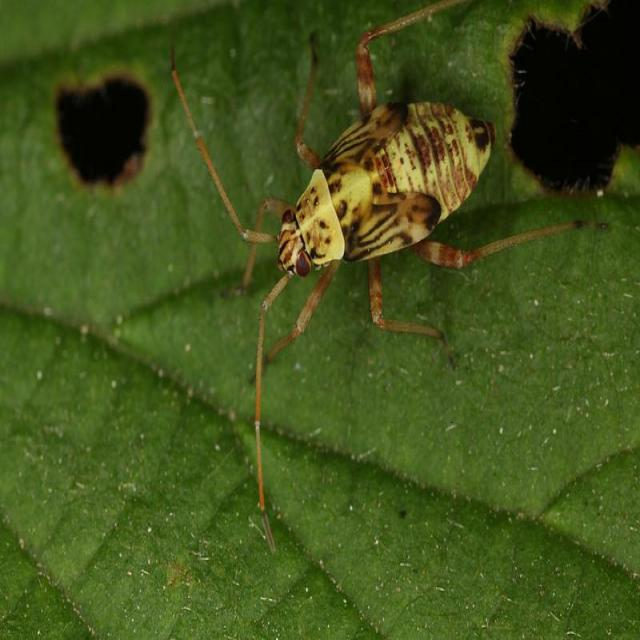Miridae-Adult-: (158, 38, 544, 358)
